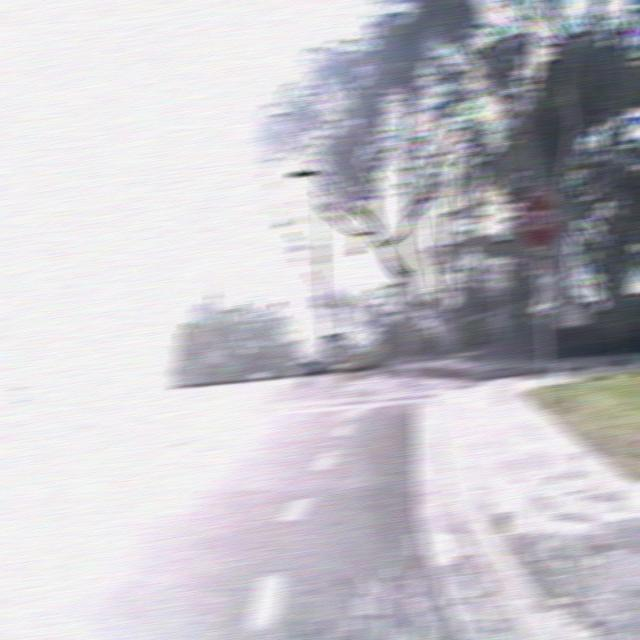stop_sign: (514, 191, 560, 248)
